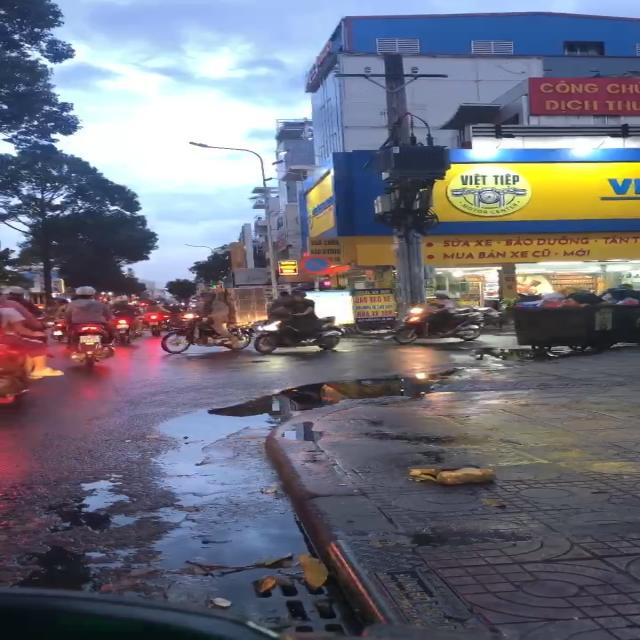Bien bao cam do xe: (296, 253, 337, 274)
